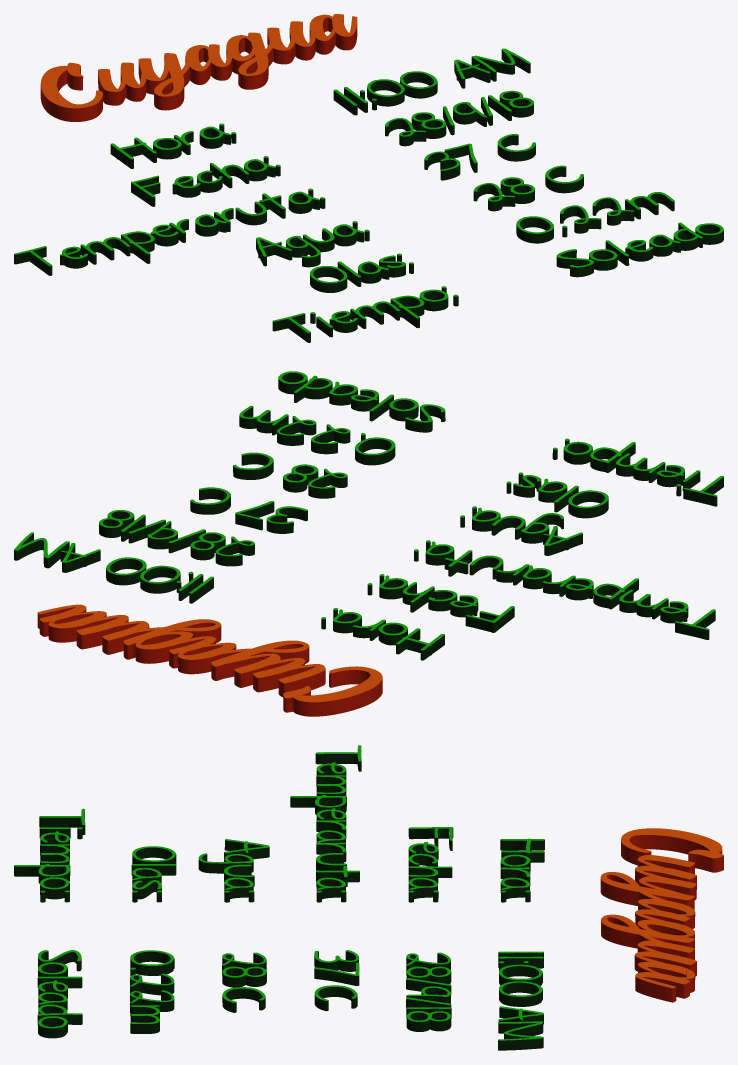
File: Cuyagua.obj
The picture shows the model from 3 angles, top to bottom: view 1: azimuth 30°, elevation 25°; view 2: azimuth 150°, elevation 25°; view 3: azimuth 270°, elevation 25°; orthographic projection. The views are drawn at different scales.
Visible parts, largest first — view 1: Text.007; view 2: Text.007; view 3: Text.007.
Part boxes in pixels (x1,y1,x2,y2): Text.007: [14, 14, 723, 342]; Text.007: [14, 371, 723, 716]; Text.007: [14, 745, 723, 1050].
Size of the model in its own units: 7.58 by 0.202 by 7.71.
